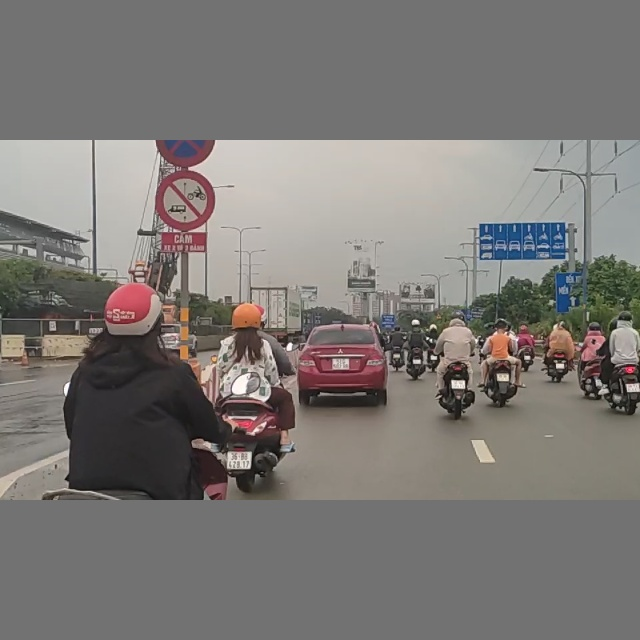P.111: (157, 170, 214, 229)
P.130: (159, 141, 215, 166)
